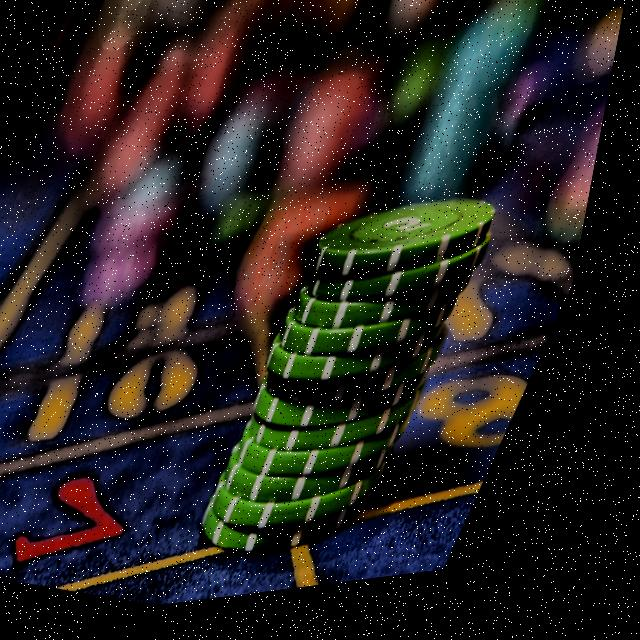Chip: (180, 145, 545, 613)
